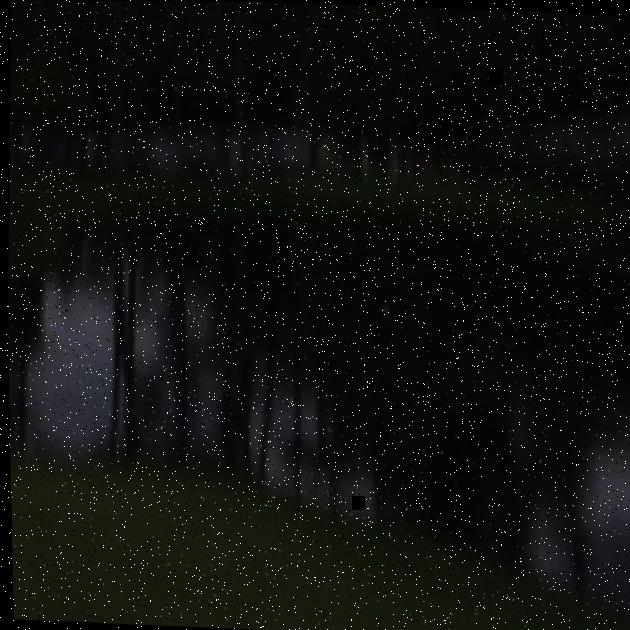GolfBall: (381, 308, 389, 317)
